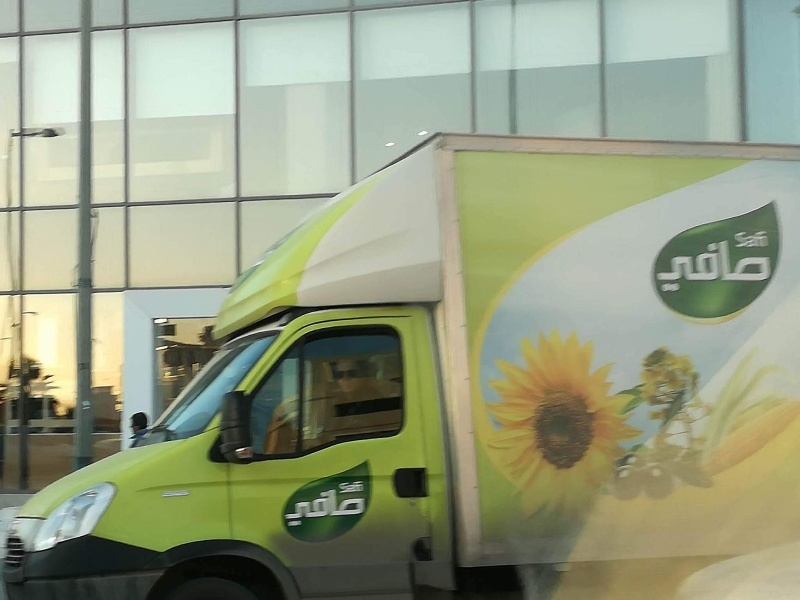text: (673, 225, 688, 295), (689, 225, 704, 295), (705, 225, 720, 295), (721, 225, 736, 295), (737, 225, 752, 295), (753, 225, 768, 295), (658, 225, 672, 295), (289, 483, 304, 528), (305, 483, 320, 528), (321, 483, 336, 528), (337, 483, 352, 528), (353, 483, 365, 528), (737, 229, 752, 249), (753, 229, 768, 249), (337, 481, 352, 494), (353, 481, 366, 494), (769, 225, 771, 295), (287, 483, 288, 528), (734, 229, 736, 249), (769, 229, 770, 249)
